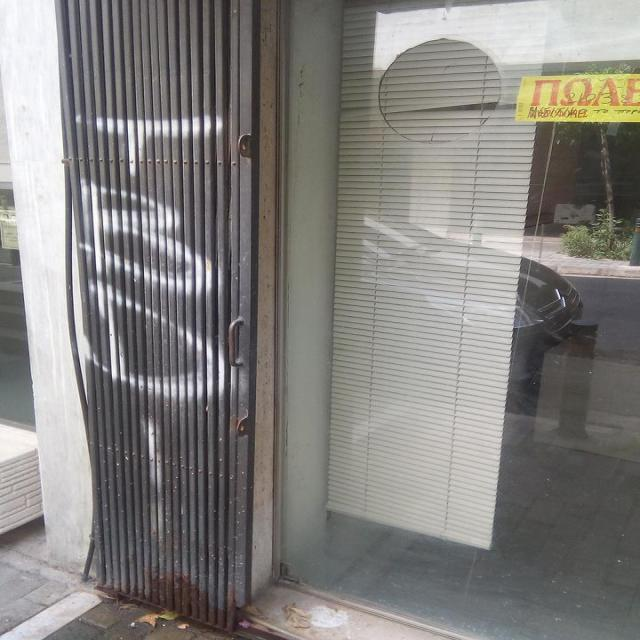nonspitting: (80, 115, 231, 402)
